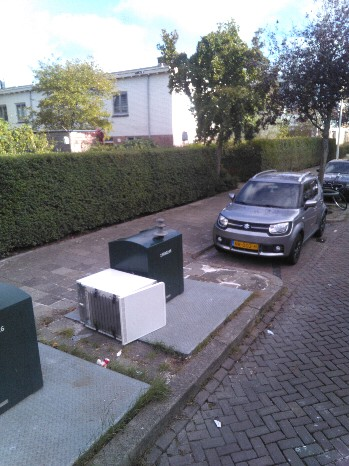Container: (4, 291, 68, 414), (140, 230, 186, 289)
Rest: (85, 266, 147, 346), (101, 282, 104, 285)
Voertuig: (213, 181, 316, 263)
